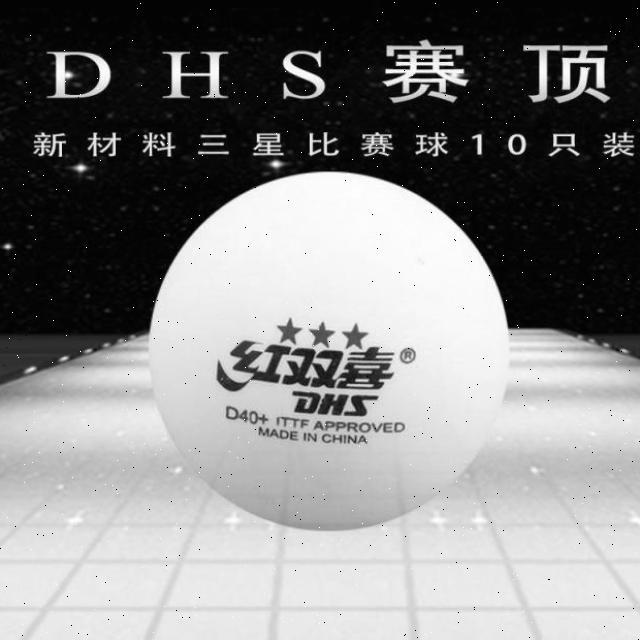ping-pong-ball: (146, 169, 512, 532)
